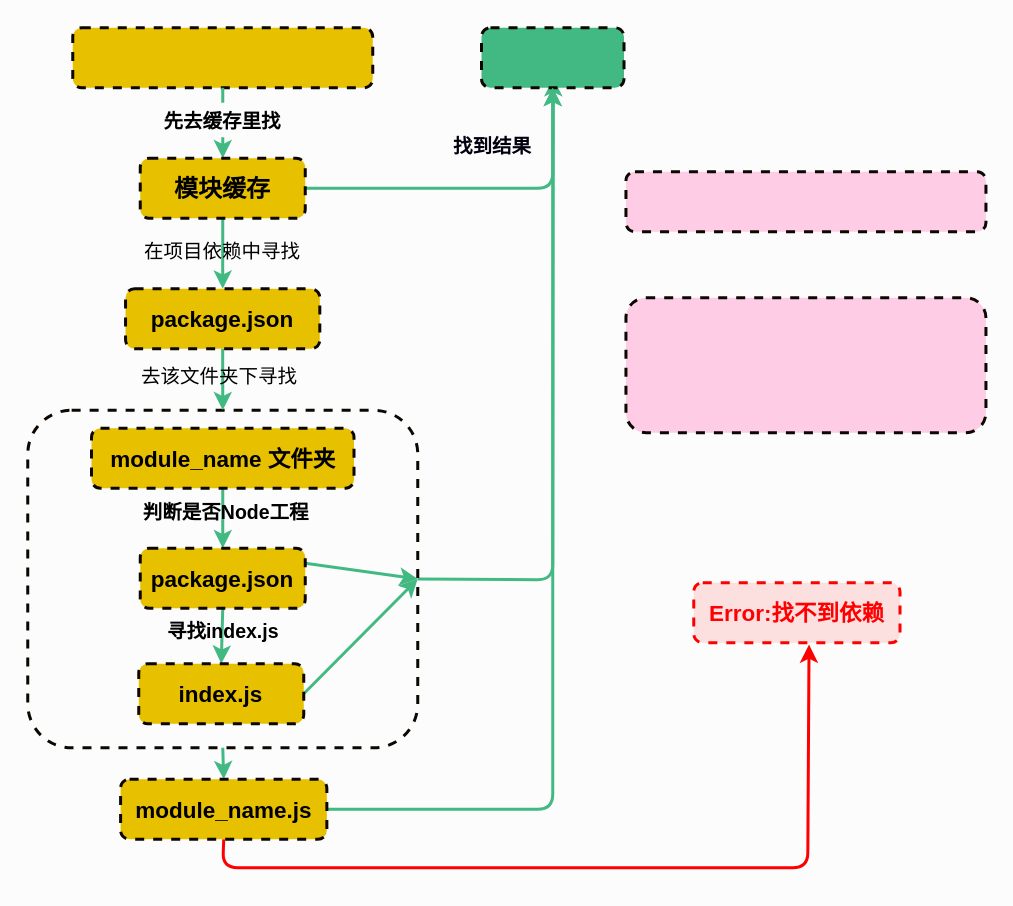
Some shapes in this 1013 by 906 pixel diagram are drawn without their labels. The centre of each missing label's shape, as x and y in pixels:
"module_name可能是是一个path" goes at point 805,201.
"require(module_name)" goes at point 222,57.
"任何一个环节找到依赖 都会放入模块依赖中" goes at point 805,365.
"返回结果" goes at point 552,57.
